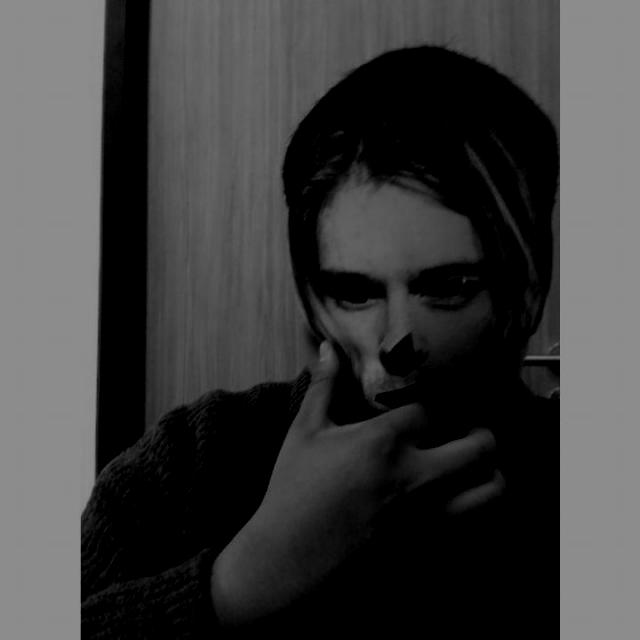fake: (284, 104, 554, 416)
